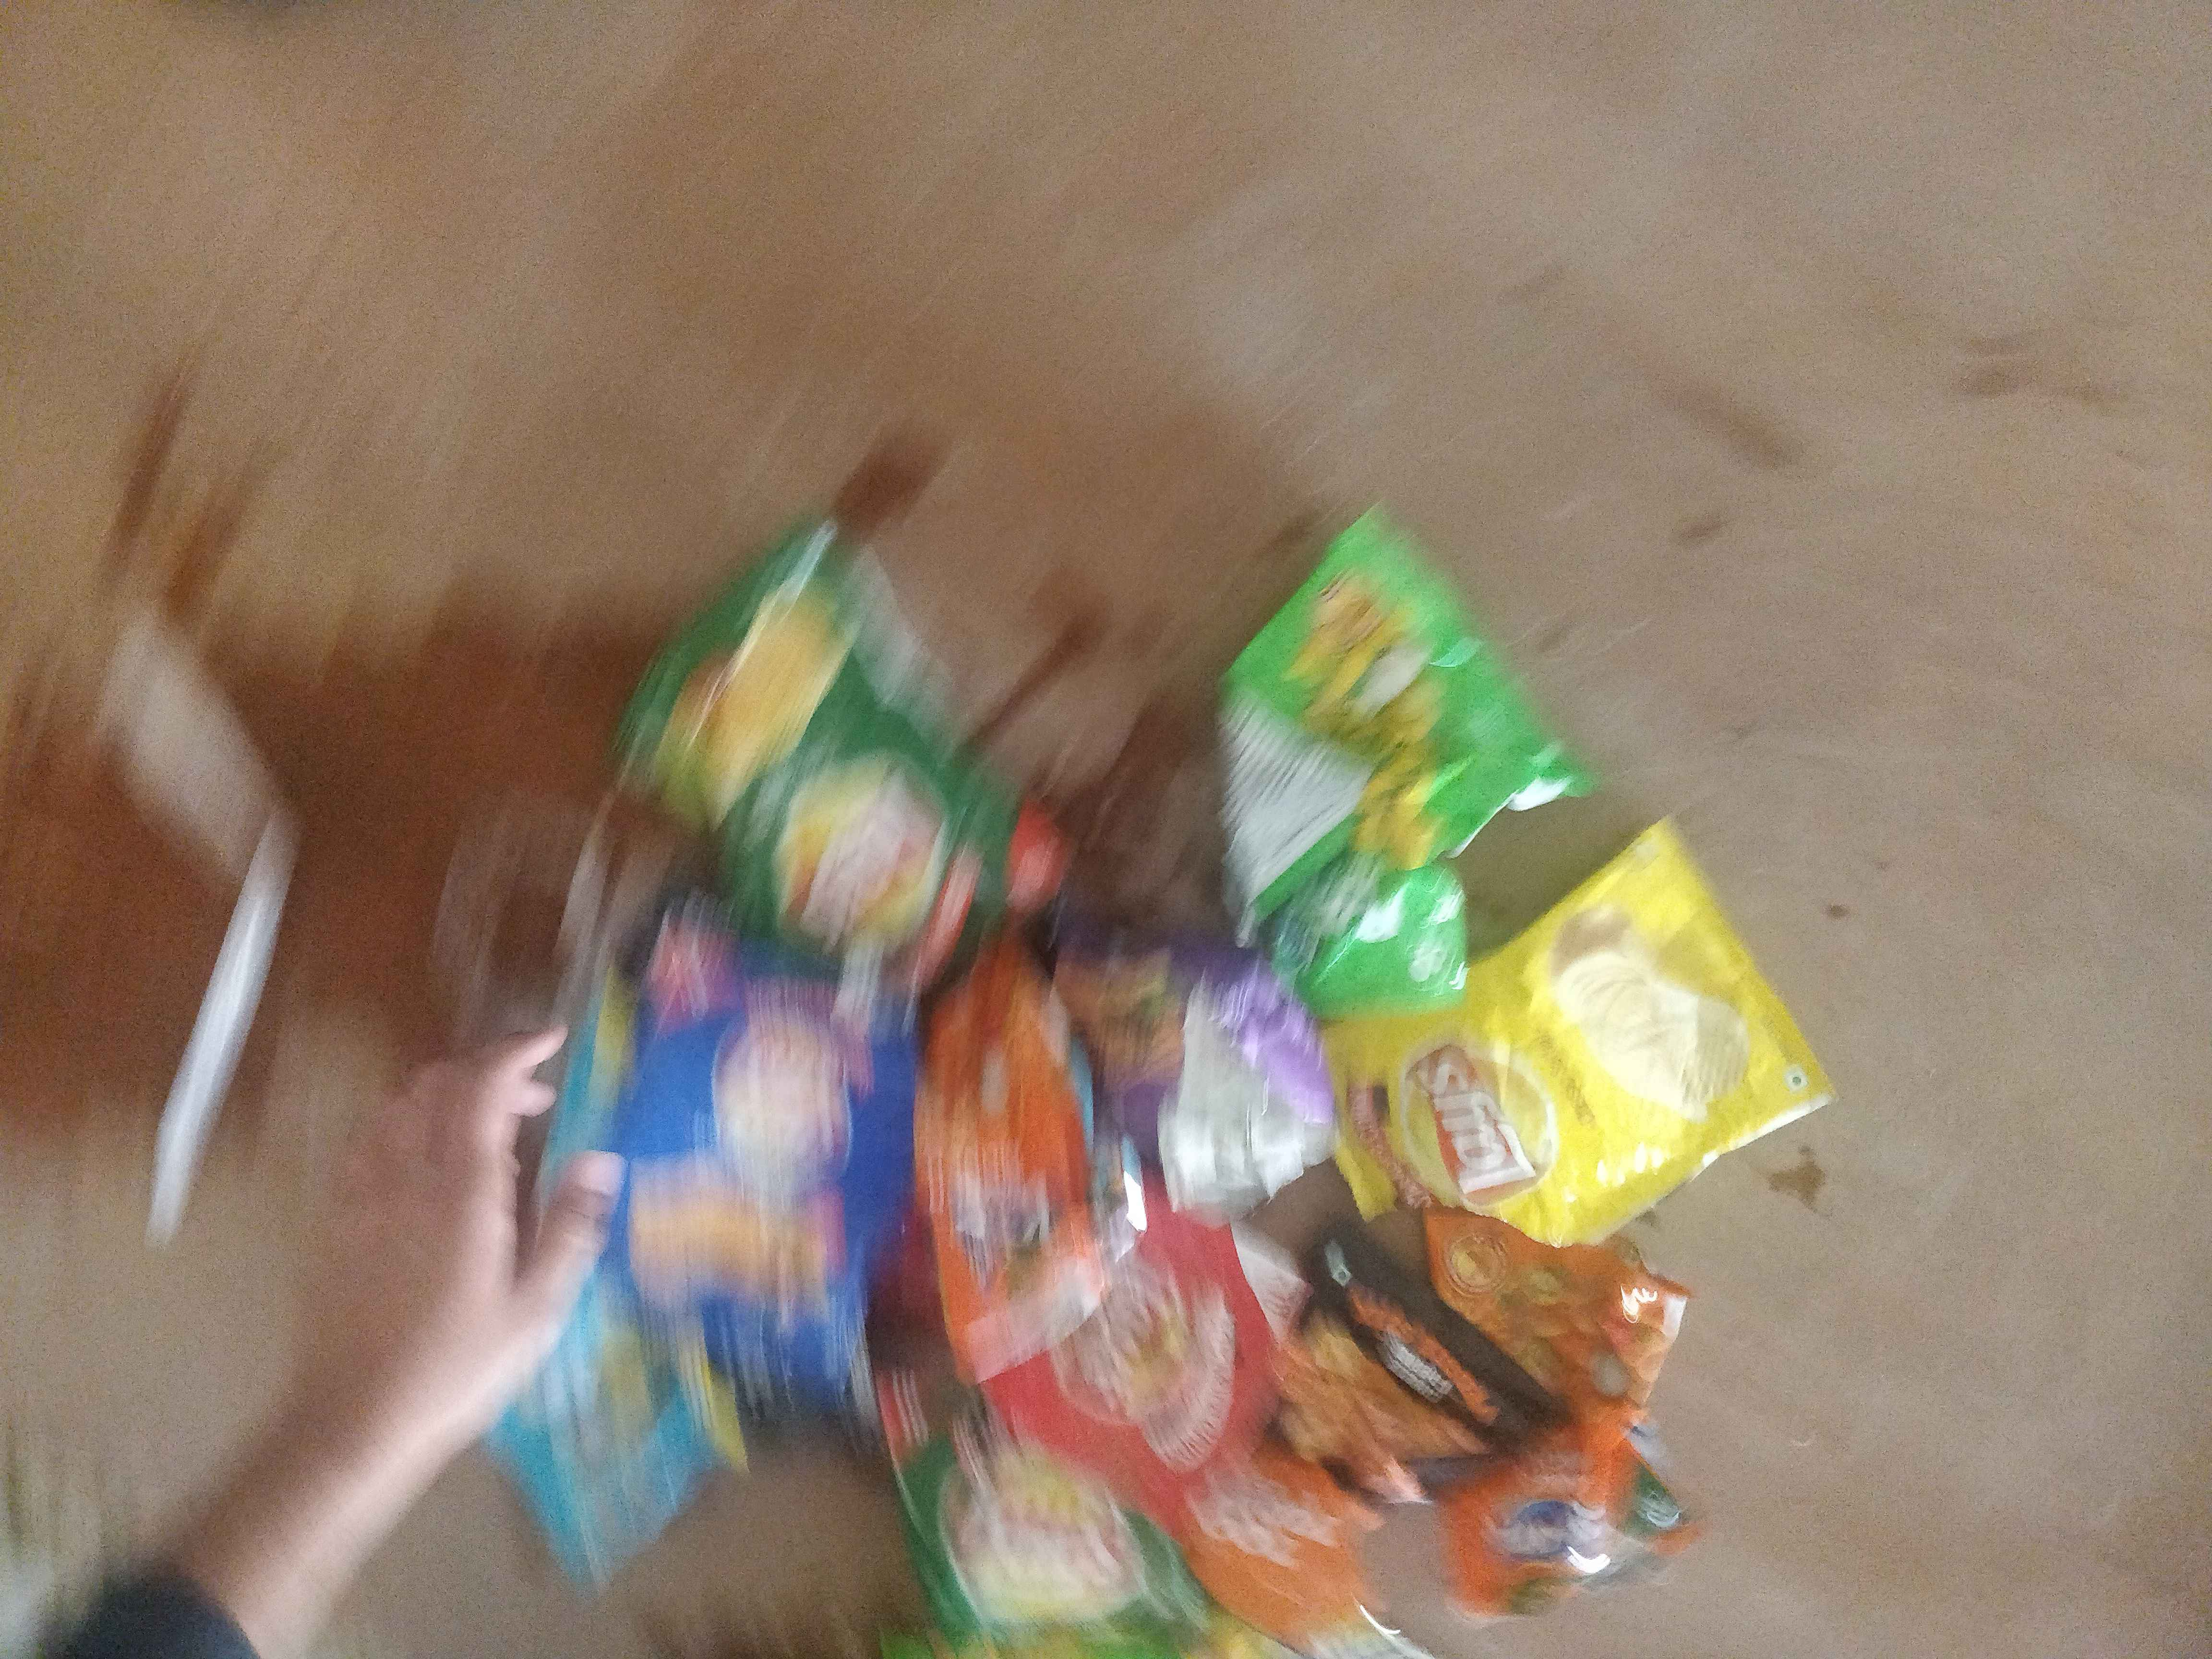Lays: (772, 748, 949, 945), (956, 1460, 1163, 1615), (1392, 1039, 1566, 1209), (697, 1007, 867, 1180), (1069, 1243, 1207, 1412)
kurkure: (956, 1166, 1061, 1270), (1477, 1506, 1618, 1561), (1263, 901, 1341, 962)
tooyumm: (1212, 1422, 1355, 1598)
